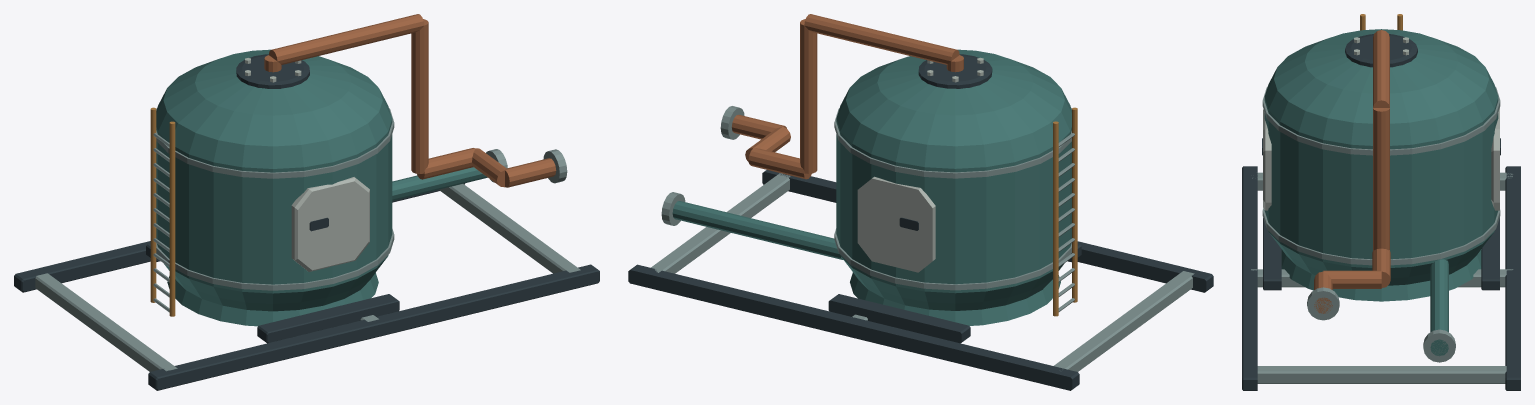
Rendered from UT-01_pressure_filter.glb.
The picture shows the model from 3 angles, left to right: view 1: azimuth 30°, elevation 25°; view 2: azimuth 150°, elevation 25°; view 3: azimuth 270°, elevation 25°; orthographic projection.
Visible parts, largest first — view 1: UT-01_pressure_filter; view 2: UT-01_pressure_filter; view 3: UT-01_pressure_filter.
Boxes of the visible parts, left/top/right/bottom form: UT-01_pressure_filter: left=14, top=14, right=599, bottom=390; UT-01_pressure_filter: left=628, top=14, right=1213, bottom=390; UT-01_pressure_filter: left=1242, top=14, right=1520, bottom=390.
Size of the model in its own units: 13 by 6.81 by 7.2.
